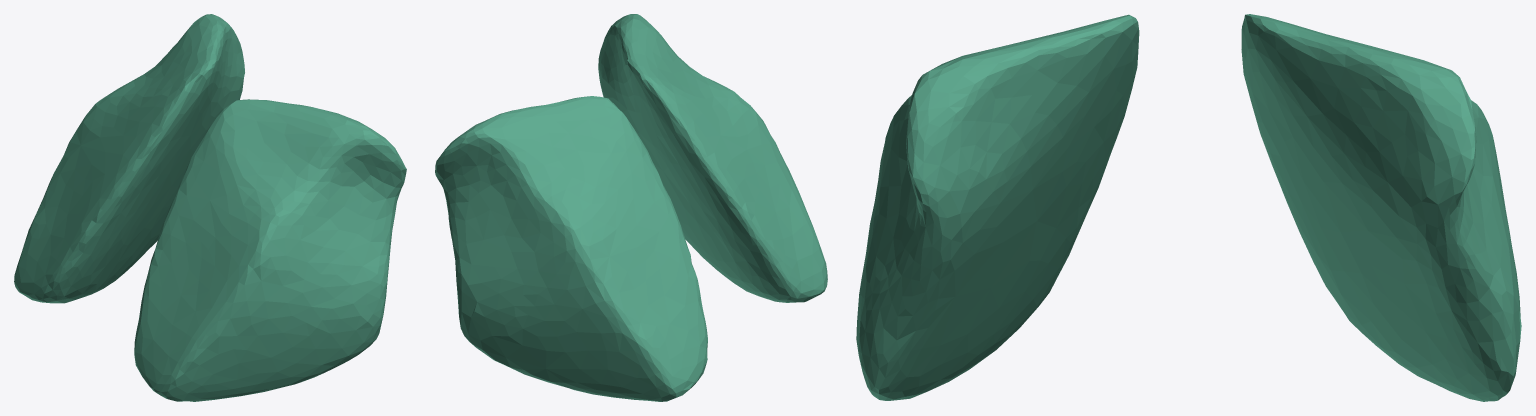
3 renders of one model, left to right at view 1: azimuth 30°, elevation 25°; view 2: azimuth 150°, elevation 25°; view 3: azimuth 270°, elevation 25°, orthographic. The views are drawn at different scales.
Parts seen in each view (by area): view 1: 746.obj; view 2: 746.obj; view 3: 746.obj.
Part boxes in pixels (box(x1,y1,x2,y2)): 746.obj: box(14, 14, 406, 401); 746.obj: box(435, 14, 827, 401); 746.obj: box(856, 14, 1521, 401).
Size of the model in its own units: 1692 by 1638 by 2470.
